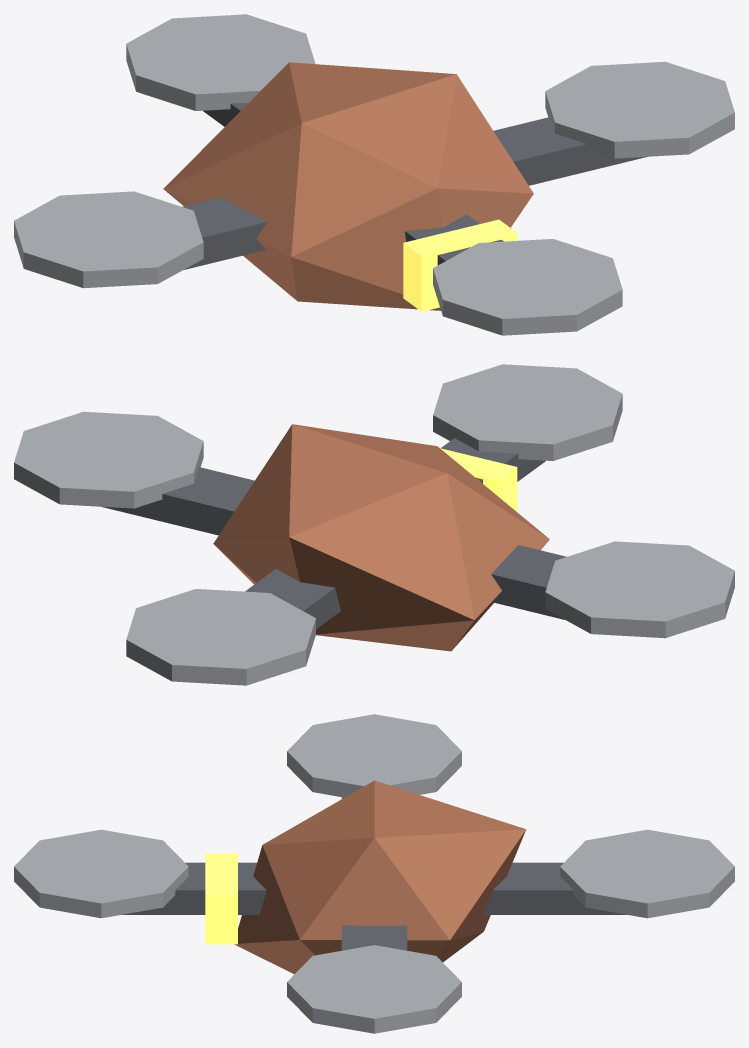
The model's file is Drone.glb.
3 views of the same model, one above another, from view 1: azimuth 30°, elevation 25°; view 2: azimuth 150°, elevation 25°; view 3: azimuth 270°, elevation 25° (orthographic). The views are drawn at different scales.
Visible parts, largest first — view 1: Drone; view 2: Drone; view 3: Drone.
Part boxes in pixels (x1,y1,x2,y2): Drone: [14, 14, 734, 335]; Drone: [14, 364, 734, 685]; Drone: [14, 714, 734, 1033].
Bounding box in the file's own units: 1.32 × 0.3546 × 1.32.
